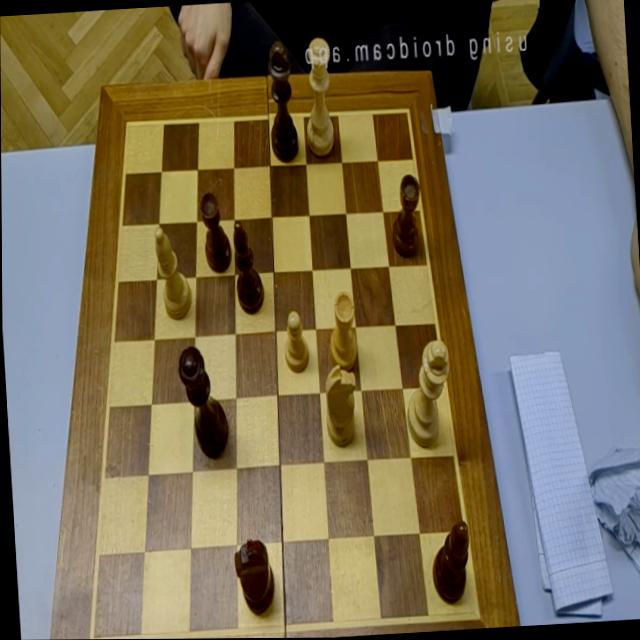black_bishop: (430, 521, 472, 605), (231, 219, 265, 316)
black_king: (265, 41, 299, 164)
black_knight: (232, 538, 276, 616)
black_queen: (177, 345, 229, 461)
black_rook: (388, 175, 424, 259), (198, 190, 233, 274)
white_bishop: (153, 225, 193, 322)
white_king: (401, 340, 453, 450)
white_knight: (322, 363, 359, 449)
white_pawn: (282, 311, 309, 374)
white_queen: (301, 38, 336, 159)
white_rook: (326, 291, 359, 373)
